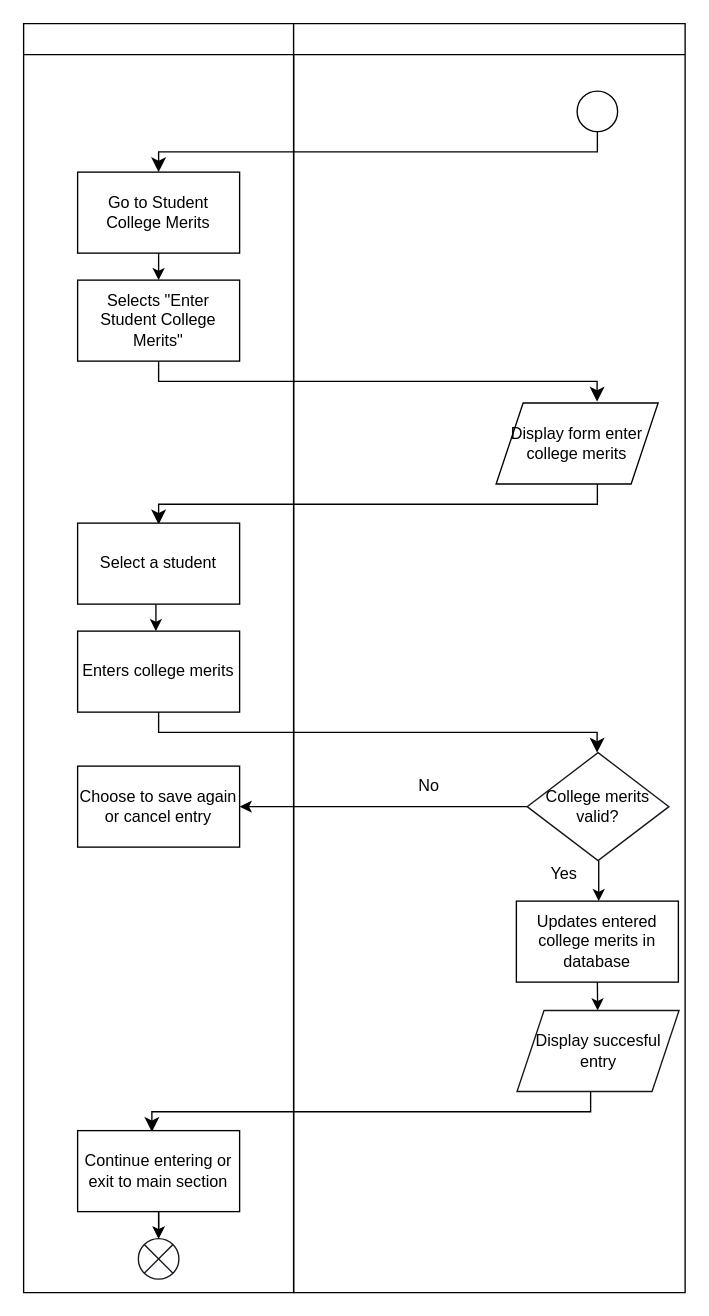
This 709x1316 diagram has some shape labels left out. The shapes that lost their labels are listed below. From the top down, each one's centre as x and y in pixels, then its label:
At pixel 158 657: "Fellow".
At pixel 488 657: "System".
